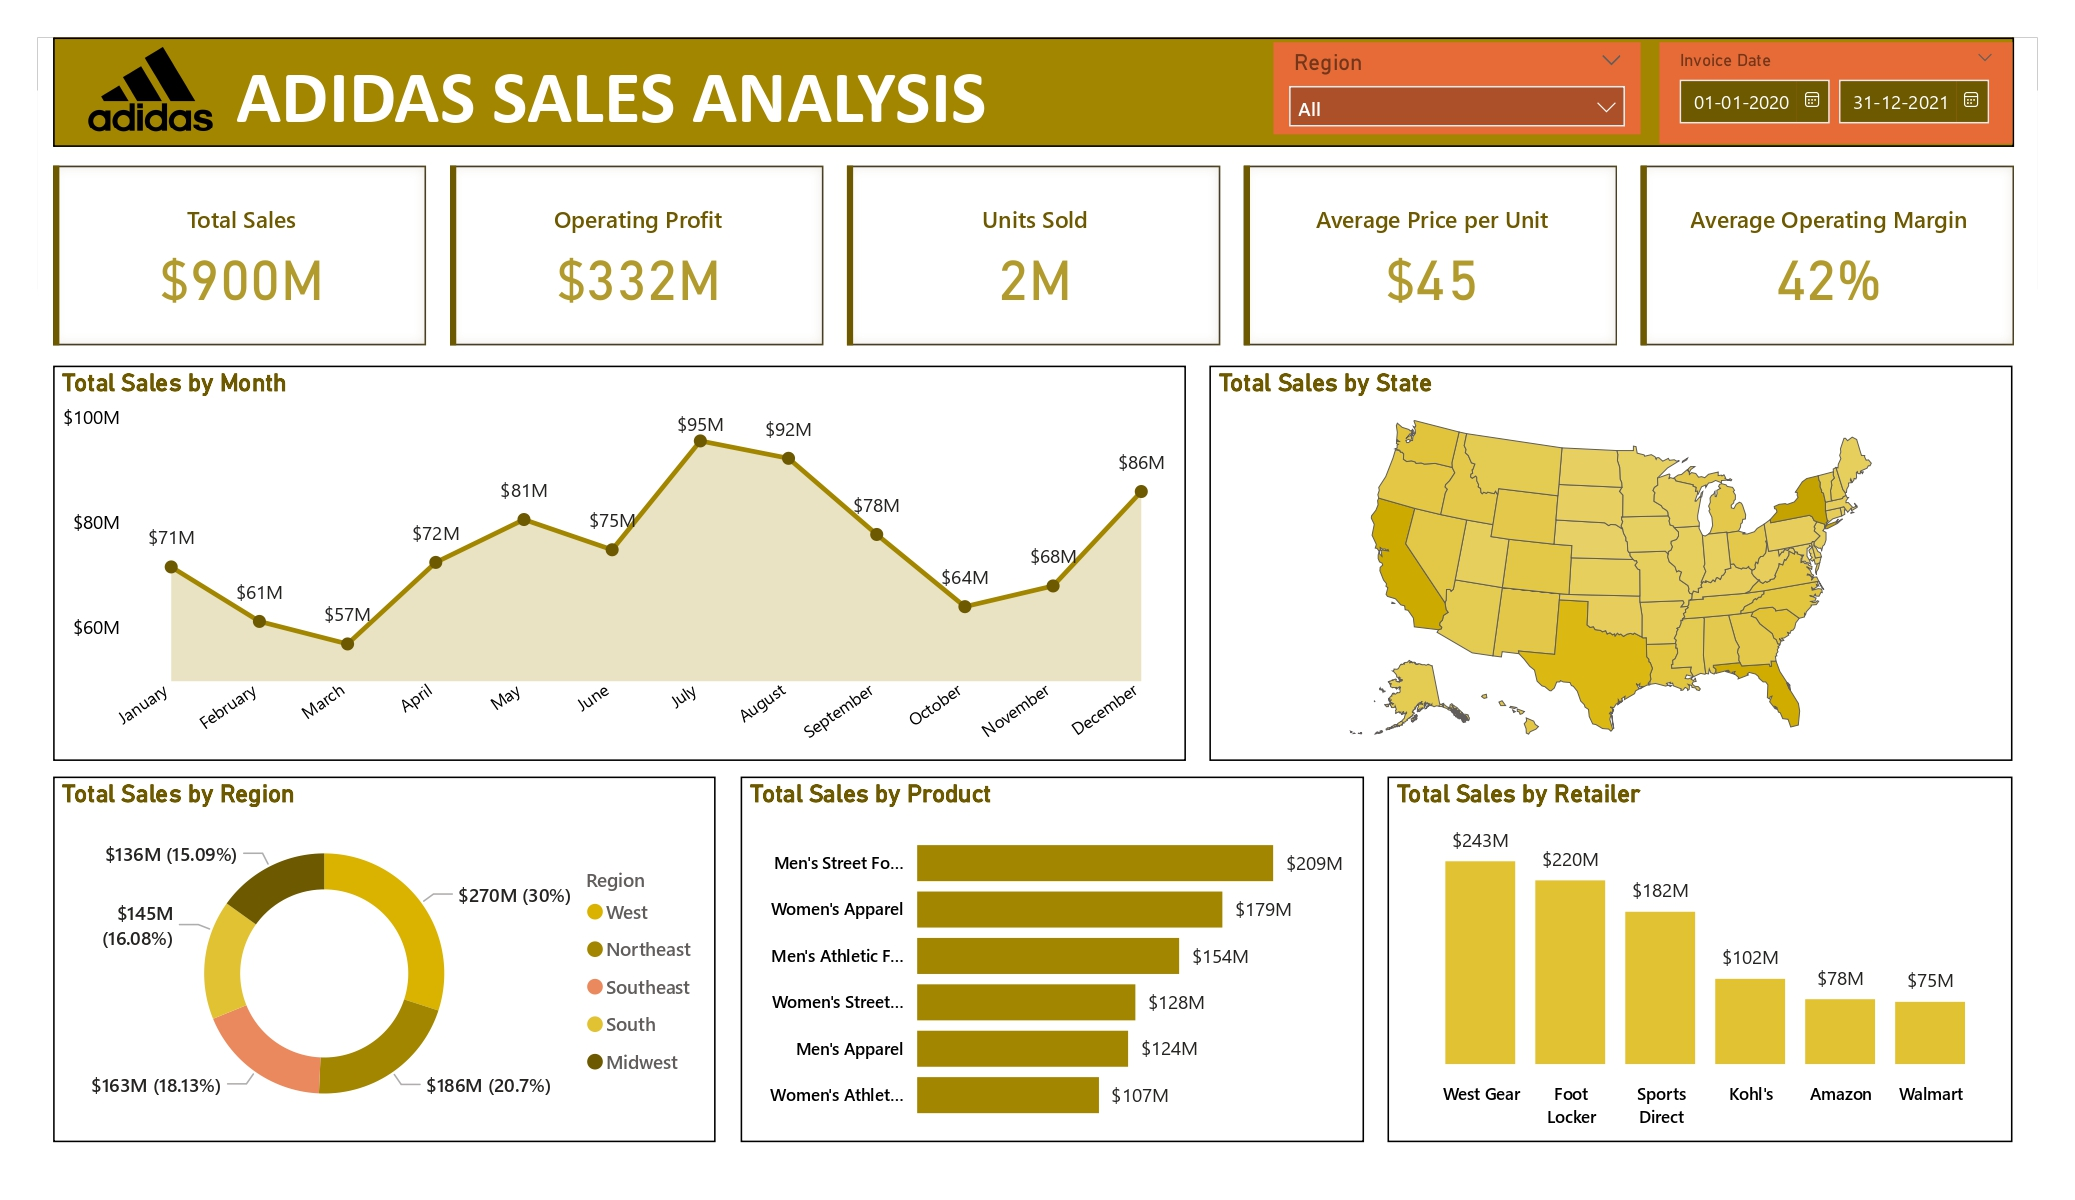

This screenshot's page, from the dashboard's own definition file:
{"tool":"powerbi","page":{"name":"Adidas Sale Analysis","canvas":[1280,720],"ordinal":0},"visuals":[{"type":"shape","box":[10,0,1255,70],"z":0},{"type":"textbox","box":[122,3,502,70],"z":1000},{"type":"cardVisual","fields":{"Data":["Sum(Data Sales Adidas.Total Sales)","Sum(Data Sales Adidas.Operating Profit)","Sum(Data Sales Adidas.Units Sold)","Avg(Data Sales Adidas.Price per Unit)","Avg(Data Sales Adidas.Operating Margin)"]},"box":[4.9,76.8,1267.4,125.5],"z":2000},{"type":"areaChart","title":"Total Sales by Month","fields":{"Category":["Data Sales Adidas.Invoice Date.Variation.Date Hierarchy.Month"],"Y":["Sum(Data Sales Adidas.Total Sales)"]},"box":[10,210.4,724.5,253],"z":3000},{"type":"shapeMap","title":"Total Sales by State","fields":{"Category":["Data Sales Adidas.State"],"Value":["Sum(Data Sales Adidas.Total Sales)"]},"box":[749.9,210.4,514.2,253],"z":4000},{"type":"donutChart","fields":{"Category":["Data Sales Adidas.Region"],"Y":["Sum(Data Sales Adidas.Total Sales)"]},"box":[10,473,424,234],"z":5000},{"type":"barChart","title":"Total Sales by Product","fields":{"Category":["Data Sales Adidas.Product"],"Y":["Sum(Data Sales Adidas.Total Sales)"]},"box":[450,473,399,234],"z":6000},{"type":"columnChart","title":"Total Sales by Retailer","fields":{"Y":["Sum(Data Sales Adidas.Total Sales)"],"Category":["Data Sales Adidas.Retailer"]},"box":[864,473,400,234],"z":7000},{"type":"slicer","fields":{"Values":["Data Sales Adidas.Region"]},"box":[791,3,235,59],"z":8000},{"type":"slicer","fields":{"Values":["Data Sales Adidas.Invoice Date"]},"box":[1038,3,226,65],"z":9000},{"type":"image","box":[20,0,108,67],"z":10000}]}

Visuals, with their boxes in screenshot pixels (x1, y1, x2, y2):
shape: (x1=53, y1=38, x2=2014, y2=147)
textbox: (x1=228, y1=42, x2=1012, y2=152)
cardVisual - Sum(Data Sales Adidas.Total Sales) x Sum(Data Sales Adidas.Operating Profit): (x1=45, y1=158, x2=2025, y2=354)
"Total Sales by Month" areaChart: (x1=53, y1=366, x2=1185, y2=762)
"Total Sales by State" shapeMap: (x1=1209, y1=366, x2=2013, y2=762)
donutChart - Data Sales Adidas.Region x Sum(Data Sales Adidas.Total Sales): (x1=53, y1=777, x2=716, y2=1142)
"Total Sales by Product" barChart: (x1=741, y1=777, x2=1364, y2=1142)
"Total Sales by Retailer" columnChart: (x1=1388, y1=777, x2=2012, y2=1142)
slicer - Data Sales Adidas.Region: (x1=1273, y1=42, x2=1641, y2=134)
slicer - Data Sales Adidas.Invoice Date: (x1=1659, y1=42, x2=2012, y2=144)
image: (x1=69, y1=38, x2=238, y2=142)
